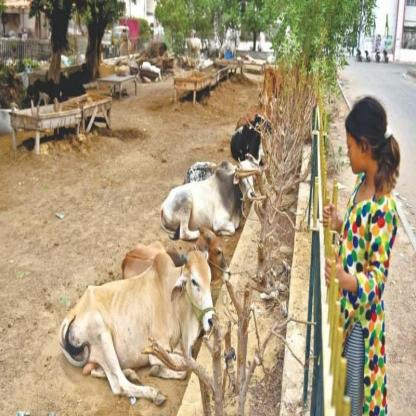cow: (58, 249, 216, 407), (161, 154, 257, 243), (122, 224, 232, 292), (230, 111, 272, 167), (183, 160, 242, 185)
